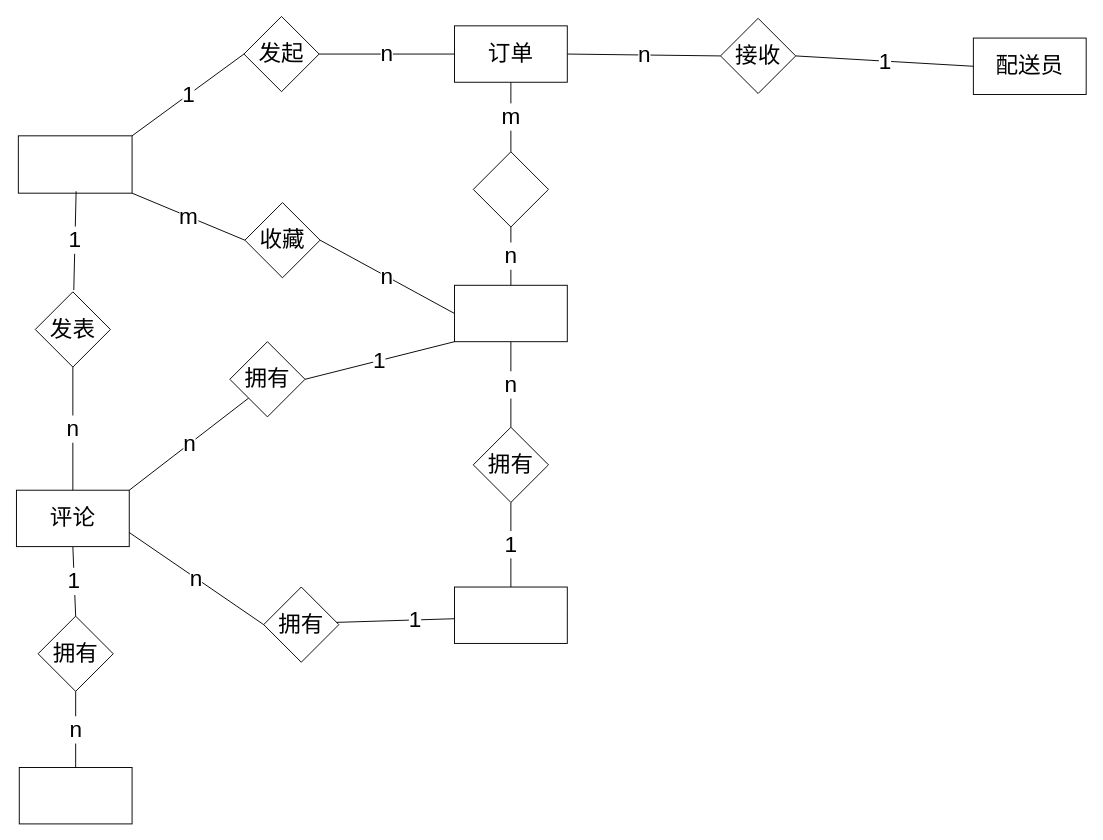
The diagram is 1103 pixels wide and 840 high, and some of its shapes have lost their labels. The shapes that lost their labels are listed below. From the top down, each one's centre as x and y in pixels, then its label:
pixel 74 164: 用户
pixel 510 189: 对应
pixel 510 313: 菜品
pixel 510 614: 食堂
pixel 75 795: 二级评论
